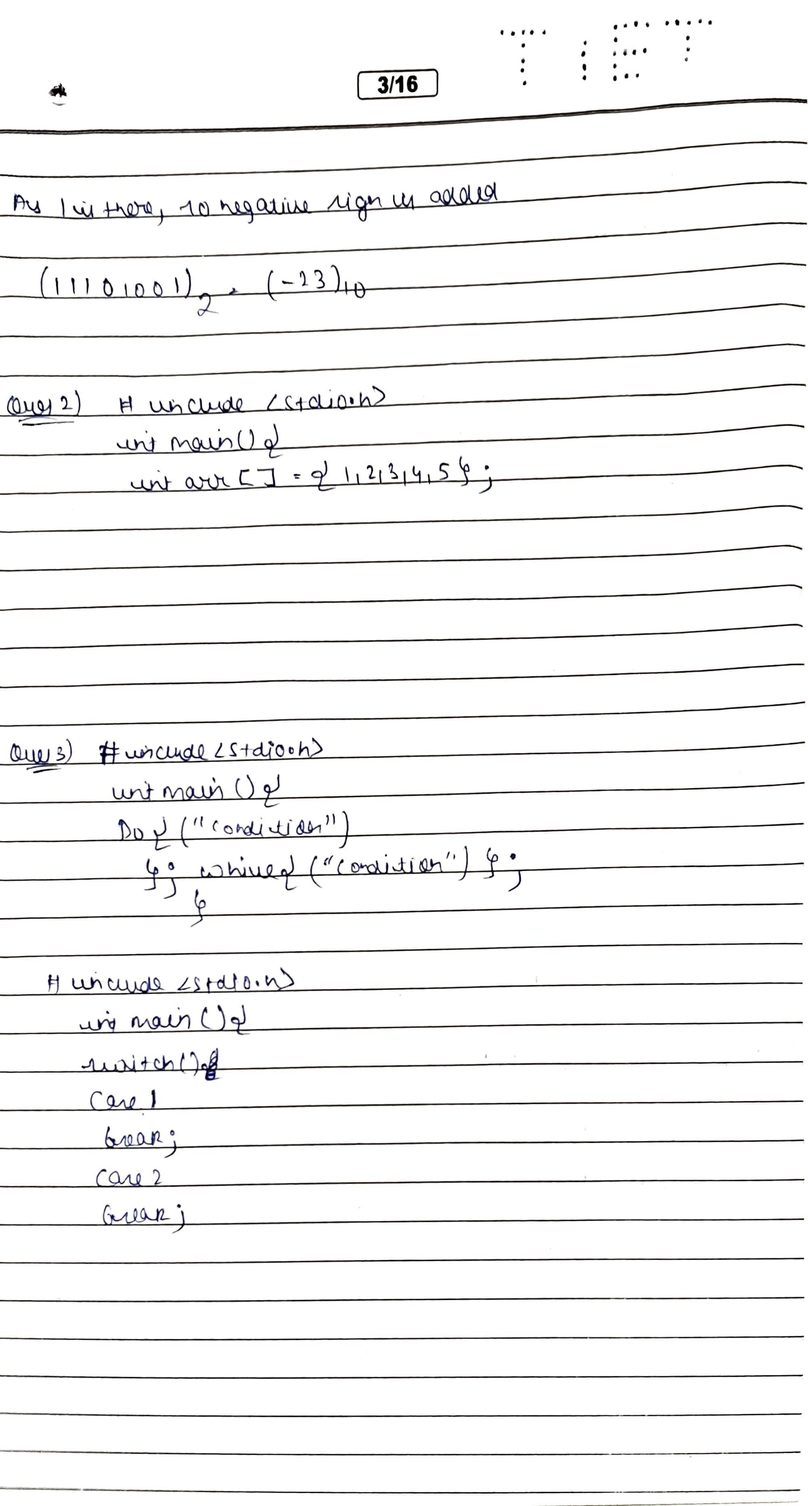cuttings: (200, 1047, 222, 1082)
